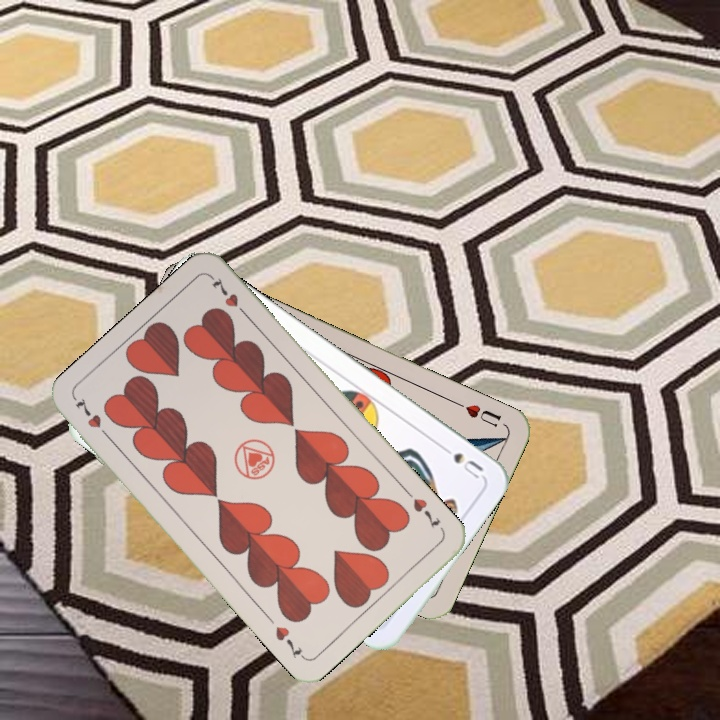H7: (71, 393, 114, 443), (409, 494, 443, 531)
HU: (451, 397, 504, 430)
SU: (434, 439, 486, 482)
